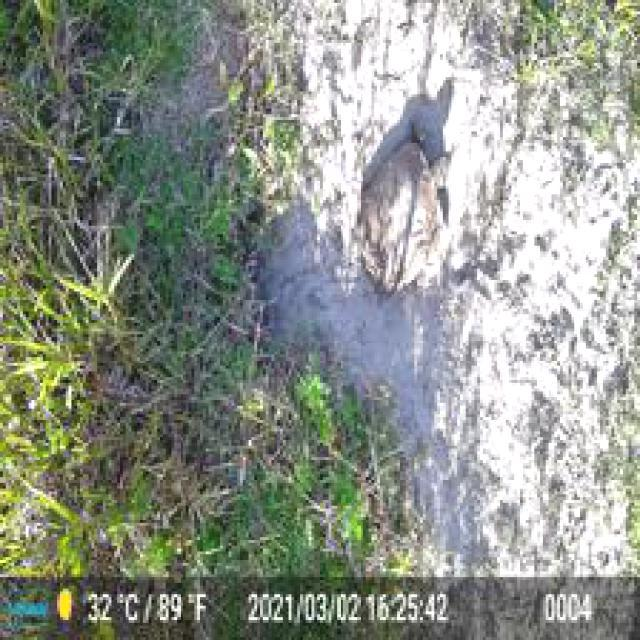tortoise: (352, 126, 455, 294)
